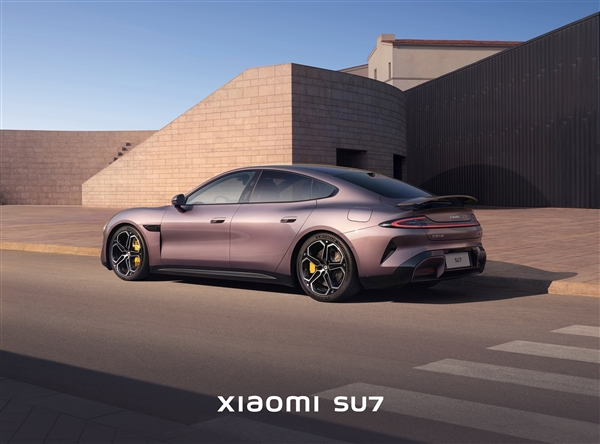su7: (102, 162, 488, 297)
